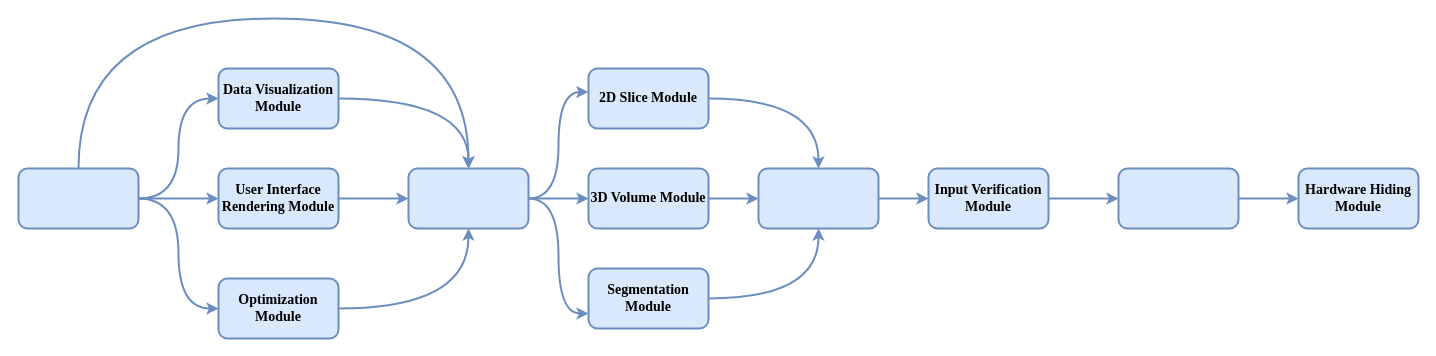
Some shapes in this 1436 by 356 pixel diagram are drawn without their labels. The box of each missing label's shape, as (x1, y1, x2, y2) in pixels:
Data Processing Module: (757, 167, 879, 229)
Input Format Module: (1117, 167, 1239, 229)
Main Program Module: (407, 167, 529, 229)
User Interface Module: (17, 167, 139, 229)
